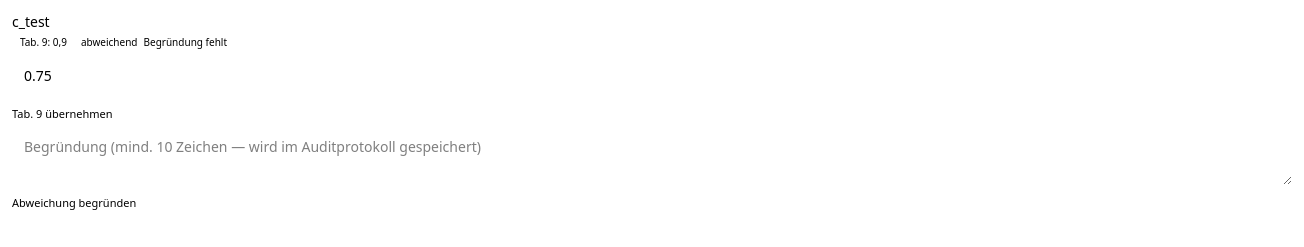
LookupFillField — fill mode (client-owned scalar, DB binding, policy from the table) › a failed audit write surfaces the server error and keeps the reason form open
The image size is (1304, 247).
Expected: the number field named "c_test (abweichend)" is shown, [12, 58, 1292, 94]
Replace the text in the text box named "Begründung der Abweichung" with "Örtliche Messung 2026": (652, 157) [12, 129, 1292, 185]
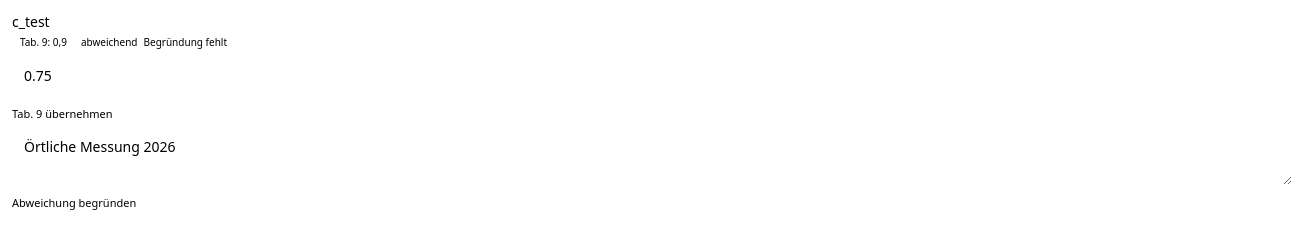
Click the button "Abweichung begründen": (74, 203) [12, 195, 136, 211]
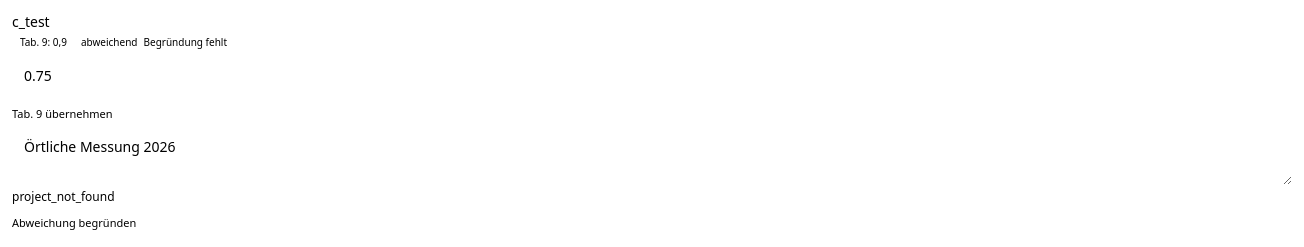
Result: the text "project_not_found" is shown at [12, 188, 115, 205]
